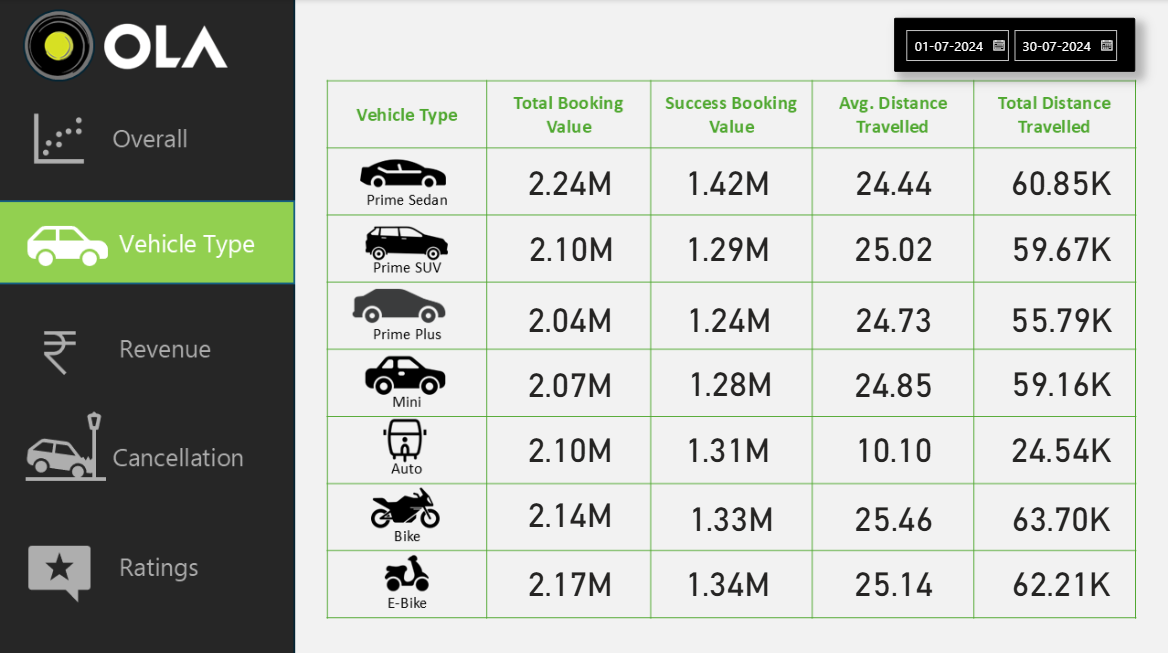

The page's visual inventory and layout, read from the dashboard file:
{"tool":"powerbi","page":{"name":"Vehicle Type","canvas":[1280,720],"ordinal":1},"visuals":[{"type":"actionButton","box":[0,223.2,322.1,89.3],"z":0},{"type":"actionButton","box":[0,339,322.1,101.3],"z":1000},{"type":"actionButton","box":[0,453.6,322.1,101.3],"z":2000},{"type":"actionButton","box":[0,571.9,322.1,101.3],"z":3000},{"type":"actionButton","box":[0,580.3,322.1,101.3],"z":4000},{"type":"actionButton","box":[0,112.2,322.1,92.9],"z":5000},{"type":"card","fields":{"Values":["Sum(ola-bookings.Booking_Value)"]},"box":[533.8,163.3,182.5,71.4],"z":6000},{"type":"card","fields":{"Values":["Sum(ola-bookings.Booking_Value)"]},"box":[535.2,234.6,182.5,71.4],"z":7000},{"type":"card","fields":{"Values":["Sum(ola-bookings.Booking_Value)"]},"box":[533.8,312.9,182.5,71.4],"z":8000},{"type":"card","fields":{"Values":["Sum(ola-bookings.Booking_Value)"]},"box":[533.8,384.2,182.5,71.4],"z":9000},{"type":"card","fields":{"Values":["Sum(ola-bookings.Booking_Value)"]},"box":[533.8,455.6,182.5,71.4],"z":10000},{"type":"card","fields":{"Values":["Sum(ola-bookings.Booking_Value)"]},"box":[533.8,526.9,182.5,71.4],"z":11000},{"type":"card","fields":{"Values":["Sum(ola-bookings.Booking_Value)"]},"box":[533.8,602.4,182.5,71.4],"z":12000},{"type":"card","fields":{"Values":["Sum(ola-bookings.Booking_Value)"]},"box":[705.3,163.3,182.5,71.4],"z":13000},{"type":"card","fields":{"Values":["Sum(ola-bookings.Booking_Value)"]},"box":[705.3,234.6,182.5,71.4],"z":14000},{"type":"card","fields":{"Values":["Sum(ola-bookings.Booking_Value)"]},"box":[706.7,312.9,182.5,71.4],"z":15000},{"type":"card","fields":{"Values":["Sum(ola-bookings.Booking_Value)"]},"box":[708.1,382.8,182.5,71.4],"z":16000},{"type":"card","fields":{"Values":["Sum(ola-bookings.Booking_Value)"]},"box":[705.3,455.6,182.5,71.4],"z":17000},{"type":"card","fields":{"Values":["Sum(ola-bookings.Booking_Value)"]},"box":[709.4,531,182.5,71.4],"z":18000},{"type":"card","fields":{"Values":["Sum(ola-bookings.Booking_Value)"]},"box":[705.3,602.4,182.5,71.4],"z":19000},{"type":"card","fields":{"Values":["Avg(ola-bookings.Ride_Distance)"]},"box":[887.8,163.3,182.5,71.4],"z":20000},{"type":"card","fields":{"Values":["Avg(ola-bookings.Ride_Distance)"]},"box":[887.8,234.6,182.5,71.4],"z":21000},{"type":"card","fields":{"Values":["Avg(ola-bookings.Ride_Distance)"]},"box":[887.8,312.9,182.5,71.4],"z":22000},{"type":"card","fields":{"Values":["Avg(ola-bookings.Ride_Distance)"]},"box":[887.8,384.2,182.5,71.4],"z":23000},{"type":"card","fields":{"Values":["Avg(ola-bookings.Ride_Distance)"]},"box":[887.8,455.6,182.5,71.4],"z":24000},{"type":"card","fields":{"Values":["Avg(ola-bookings.Ride_Distance)"]},"box":[887.8,531,182.5,71.4],"z":25000},{"type":"card","fields":{"Values":["Avg(ola-bookings.Ride_Distance)"]},"box":[887.8,602.4,182.5,71.4],"z":26000},{"type":"card","fields":{"Values":["Sum(ola-bookings.Ride_Distance)"]},"box":[1070.3,163.3,182.5,71.4],"z":27000},{"type":"card","fields":{"Values":["Sum(ola-bookings.Ride_Distance)"]},"box":[1070.3,234.6,182.5,71.4],"z":28000},{"type":"card","fields":{"Values":["Sum(ola-bookings.Ride_Distance)"]},"box":[1070.3,312.9,182.5,71.4],"z":29000},{"type":"card","fields":{"Values":["Sum(ola-bookings.Ride_Distance)"]},"box":[1070.3,382.8,182.5,71.4],"z":30000},{"type":"card","fields":{"Values":["Sum(ola-bookings.Ride_Distance)"]},"box":[1070.3,455.6,182.5,71.4],"z":31000},{"type":"card","fields":{"Values":["Sum(ola-bookings.Ride_Distance)"]},"box":[1070.3,531,182.5,71.4],"z":32000},{"type":"card","fields":{"Values":["Sum(ola-bookings.Ride_Distance)"]},"box":[1070.3,602.4,182.5,71.4],"z":33000},{"type":"slicer","title":"Date","fields":{"Values":["ola-bookings.Date"]},"box":[979.4,20.5,264,58.8],"z":34000}]}

Visuals, with their boxes on the page's 1280x720 design canvas (x1, y1, x2, y2). These are canvas units, not pixel positions in the 1168x653 screenshot, which may show the page scaled, cropped or inside an application window:
actionButton: [0, 223, 322, 312]
actionButton: [0, 339, 322, 440]
actionButton: [0, 454, 322, 555]
actionButton: [0, 572, 322, 673]
actionButton: [0, 580, 322, 682]
actionButton: [0, 112, 322, 205]
card - Sum(ola-bookings.Booking_Value): [534, 163, 716, 235]
card - Sum(ola-bookings.Booking_Value): [535, 235, 718, 306]
card - Sum(ola-bookings.Booking_Value): [534, 313, 716, 384]
card - Sum(ola-bookings.Booking_Value): [534, 384, 716, 456]
card - Sum(ola-bookings.Booking_Value): [534, 456, 716, 527]
card - Sum(ola-bookings.Booking_Value): [534, 527, 716, 598]
card - Sum(ola-bookings.Booking_Value): [534, 602, 716, 674]
card - Sum(ola-bookings.Booking_Value): [705, 163, 888, 235]
card - Sum(ola-bookings.Booking_Value): [705, 235, 888, 306]
card - Sum(ola-bookings.Booking_Value): [707, 313, 889, 384]
card - Sum(ola-bookings.Booking_Value): [708, 383, 891, 454]
card - Sum(ola-bookings.Booking_Value): [705, 456, 888, 527]
card - Sum(ola-bookings.Booking_Value): [709, 531, 892, 602]
card - Sum(ola-bookings.Booking_Value): [705, 602, 888, 674]
card - Avg(ola-bookings.Ride_Distance): [888, 163, 1070, 235]
card - Avg(ola-bookings.Ride_Distance): [888, 235, 1070, 306]
card - Avg(ola-bookings.Ride_Distance): [888, 313, 1070, 384]
card - Avg(ola-bookings.Ride_Distance): [888, 384, 1070, 456]
card - Avg(ola-bookings.Ride_Distance): [888, 456, 1070, 527]
card - Avg(ola-bookings.Ride_Distance): [888, 531, 1070, 602]
card - Avg(ola-bookings.Ride_Distance): [888, 602, 1070, 674]
card - Sum(ola-bookings.Ride_Distance): [1070, 163, 1253, 235]
card - Sum(ola-bookings.Ride_Distance): [1070, 235, 1253, 306]
card - Sum(ola-bookings.Ride_Distance): [1070, 313, 1253, 384]
card - Sum(ola-bookings.Ride_Distance): [1070, 383, 1253, 454]
card - Sum(ola-bookings.Ride_Distance): [1070, 456, 1253, 527]
card - Sum(ola-bookings.Ride_Distance): [1070, 531, 1253, 602]
card - Sum(ola-bookings.Ride_Distance): [1070, 602, 1253, 674]
"Date" slicer: [979, 20, 1243, 79]
